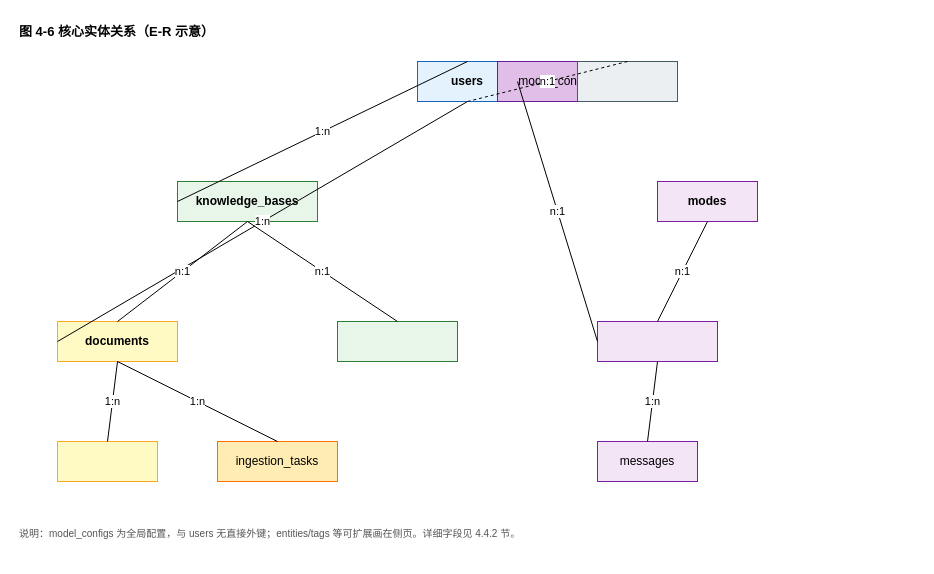
This 934x574 diagram has some shape labels left out. The shapes that lost their labels are listed below. From the top down, each one's centre as x and y in pixels, then its label:
[627,81]: audit_logs
[397,341]: faq_entries
[657,341]: conversations
[107,461]: chunks
